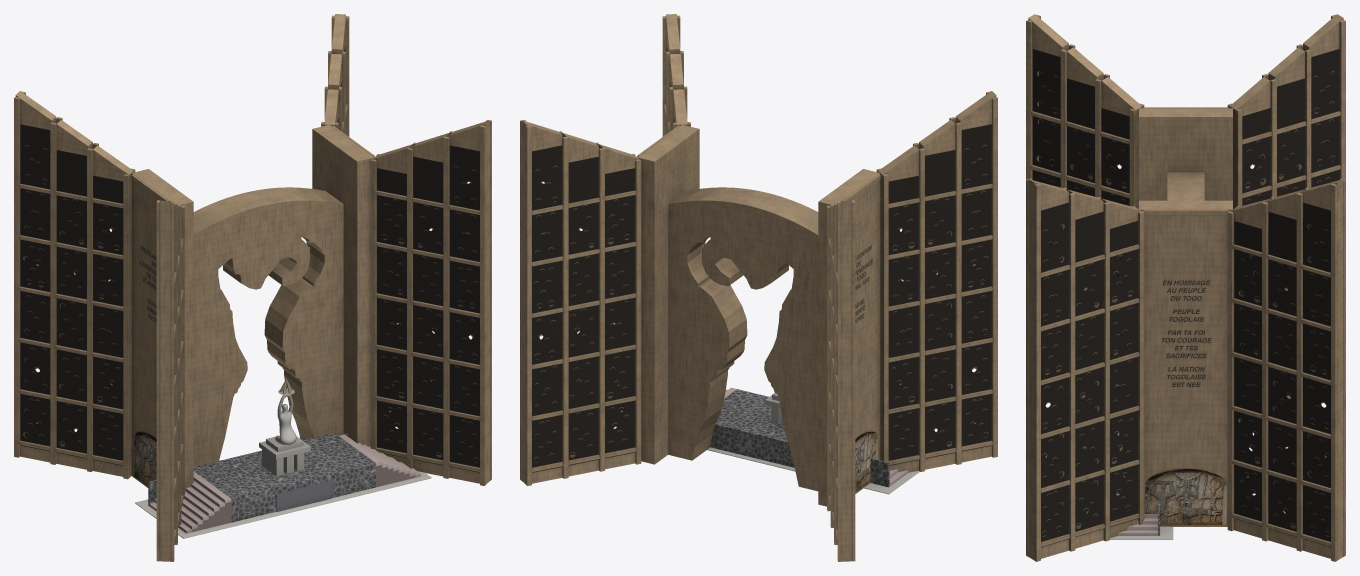
File: lome_monument.glb
3 renders of one model, left to right at view 1: azimuth 30°, elevation 25°; view 2: azimuth 150°, elevation 25°; view 3: azimuth 270°, elevation 25°, orthographic. The views are drawn at different scales.
Visible parts, largest first — view 1: monument_beton, perce.003, perce.004, monument_socle, perce.005, perce.002, monument_statue, relief_g; view 2: monument_beton, perce, perce.007, monument_socle, perce.006, perce.001, relief_g; view 3: monument_beton, perce.005, perce.006, perce.001, perce.002, relief_d, perce.004, perce.007, texte_hommage, monument_socle, perce.003, perce.
Boxes of the visible parts, box(x1,y1,x2,y2) form: monument_beton: box(14, 14, 491, 561); perce.003: box(20, 124, 123, 465); perce.004: box(377, 145, 479, 472); monument_socle: box(135, 433, 431, 538); perce.005: box(381, 166, 478, 462); perce.002: box(24, 145, 120, 454); monument_statue: box(259, 388, 310, 476); relief_g: box(134, 431, 156, 486); monument_beton: box(520, 14, 997, 561); perce: box(888, 124, 991, 465); perce.007: box(532, 145, 634, 472); monument_socle: box(707, 387, 919, 494); perce.006: box(533, 166, 630, 462); perce.001: box(891, 145, 987, 454); relief_g: box(855, 431, 877, 492); monument_beton: box(1026, 14, 1345, 561); perce.005: box(1041, 202, 1137, 547); perce.006: box(1234, 202, 1330, 547); perce.001: box(1032, 49, 1129, 288); perce.002: box(1242, 49, 1339, 288); relief_d: box(1145, 468, 1226, 525); perce.004: box(1041, 225, 1131, 536); perce.007: box(1240, 225, 1330, 536); texte_hommage: box(1162, 280, 1211, 387); monument_socle: box(1084, 447, 1173, 539); perce.003: box(1245, 71, 1332, 385); perce: box(1039, 71, 1126, 275).
Size of the model in its own units: 19.45 by 20.02 by 15.34.
Materials: 9 (8 with a texture image).
